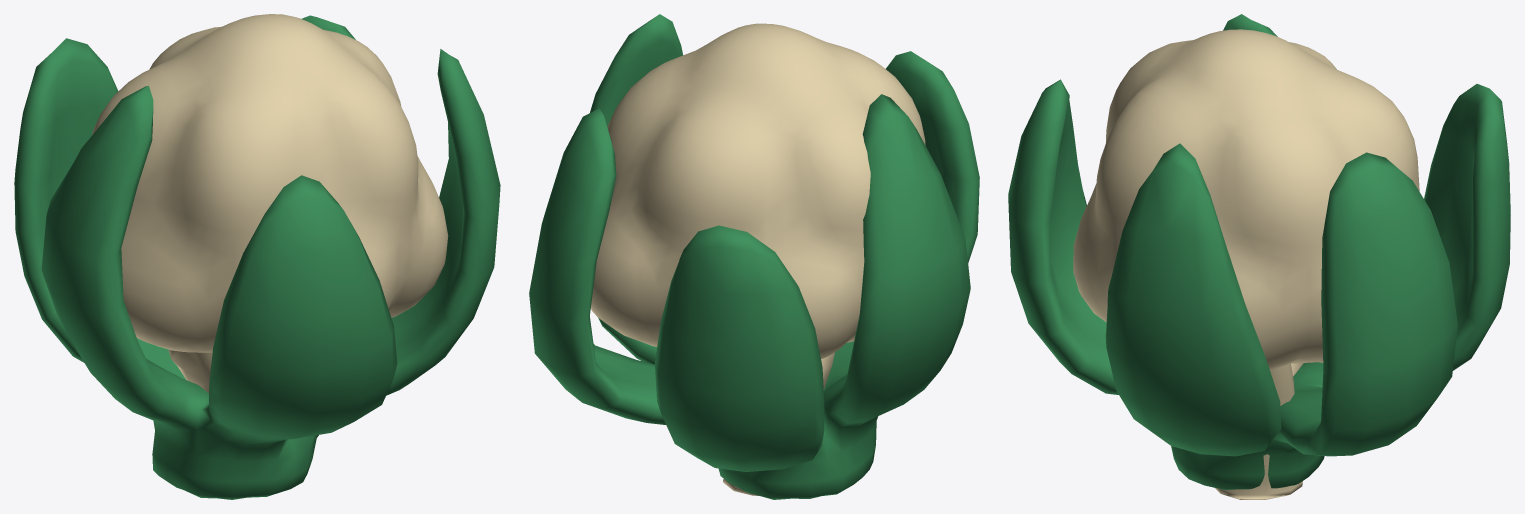
Rendered from Cauliflower_04.dae.
3 views of the same model, side by side, from view 1: azimuth 30°, elevation 25°; view 2: azimuth 150°, elevation 25°; view 3: azimuth 270°, elevation 25° (orthographic). The views are drawn at different scales.
Parts seen in each view (by area): view 1: Cauliflower_04_LOD0; view 2: Cauliflower_04_LOD0; view 3: Cauliflower_04_LOD0.
Boxes of the visible parts, box(x1,y1,x2,y2) form: Cauliflower_04_LOD0: box(14, 14, 500, 499); Cauliflower_04_LOD0: box(529, 14, 979, 499); Cauliflower_04_LOD0: box(1008, 14, 1510, 499).
Size of what is drawn, in the model's own units: 5.58 by 6.15 by 6.04.
